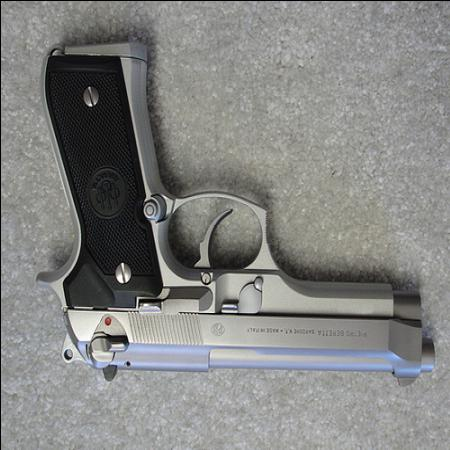Pistol: (35, 38, 434, 390)
